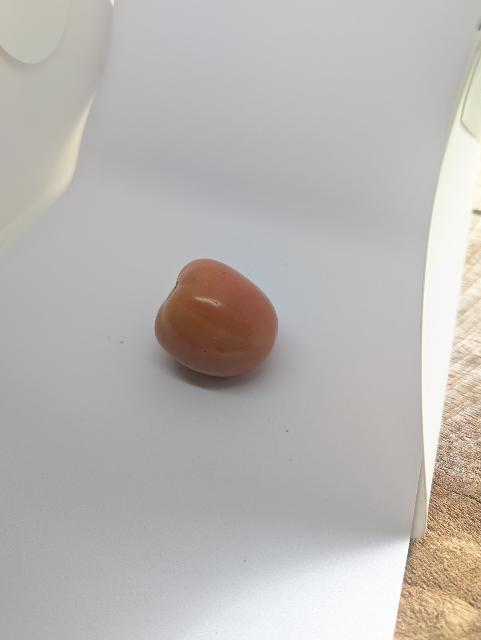turning: (152, 245, 287, 388)
